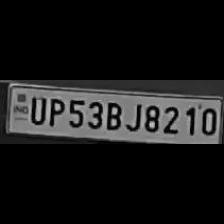0: (198, 104, 218, 136)
1: (181, 104, 197, 136)
2: (160, 102, 180, 136)
3: (85, 97, 103, 129)
5: (64, 96, 84, 128)
8: (140, 102, 160, 134)
B: (102, 99, 122, 131)
J: (123, 100, 141, 132)
P: (44, 96, 64, 127)
U: (27, 94, 46, 125)
